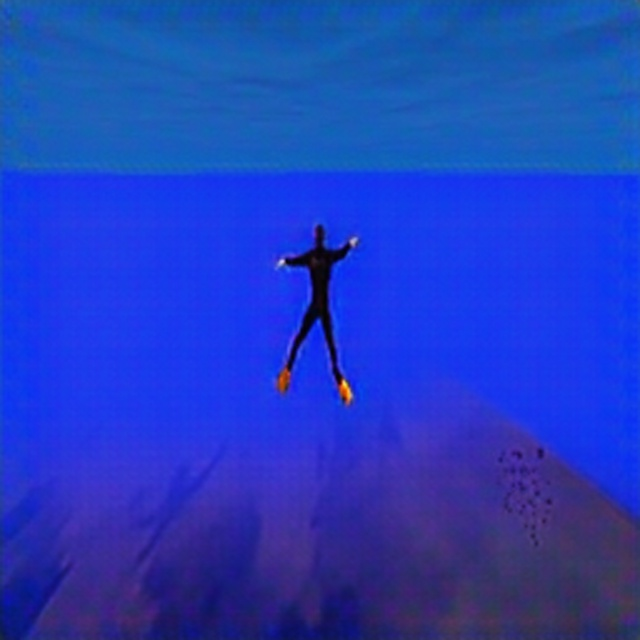diver: (272, 221, 362, 404)
